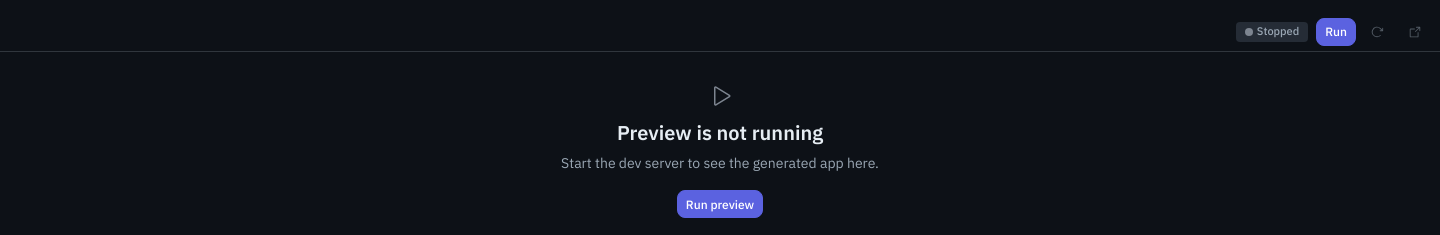
it: PreviewPanel › shows an error banner when run fails
Click the button "Run" at {"x": 1336, "y": 32}, box [1316,18,1356,46]
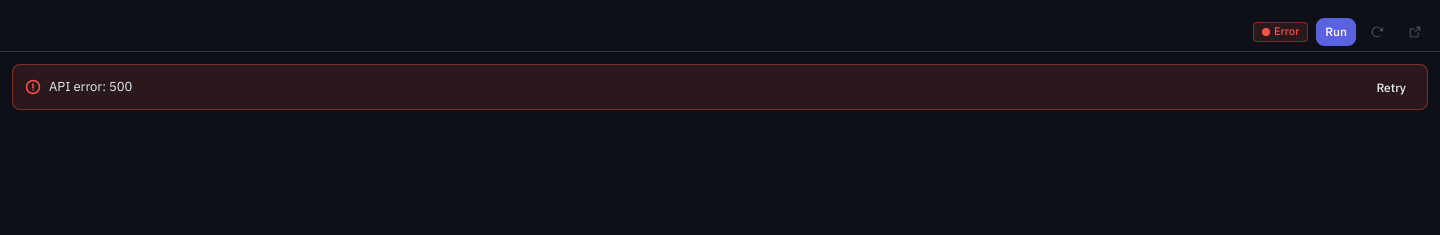
Expected: the message shows "API error: 500", [49,78,132,95]
Expected: the button "Retry" is shown, [1367,73,1415,101]
